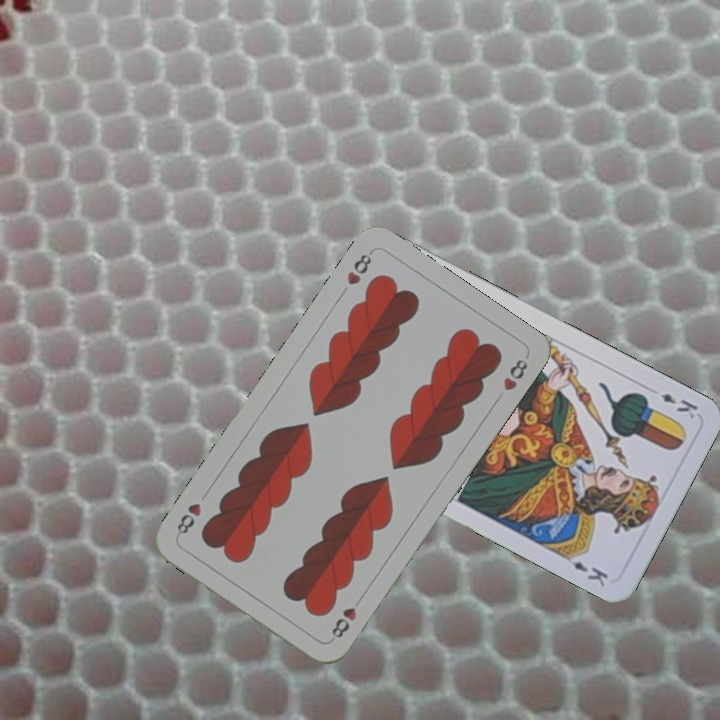EK: (656, 389, 701, 422)
H8: (327, 591, 366, 641), (342, 247, 375, 288)
